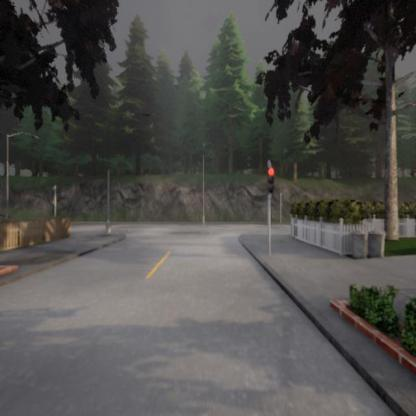traffic_light_red: (266, 168, 275, 194)
